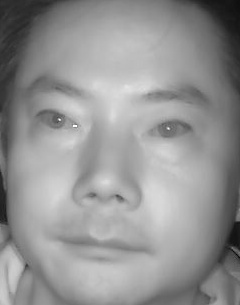eye: (144, 113, 194, 147), (35, 105, 81, 138)
mouth: (57, 220, 148, 269)
